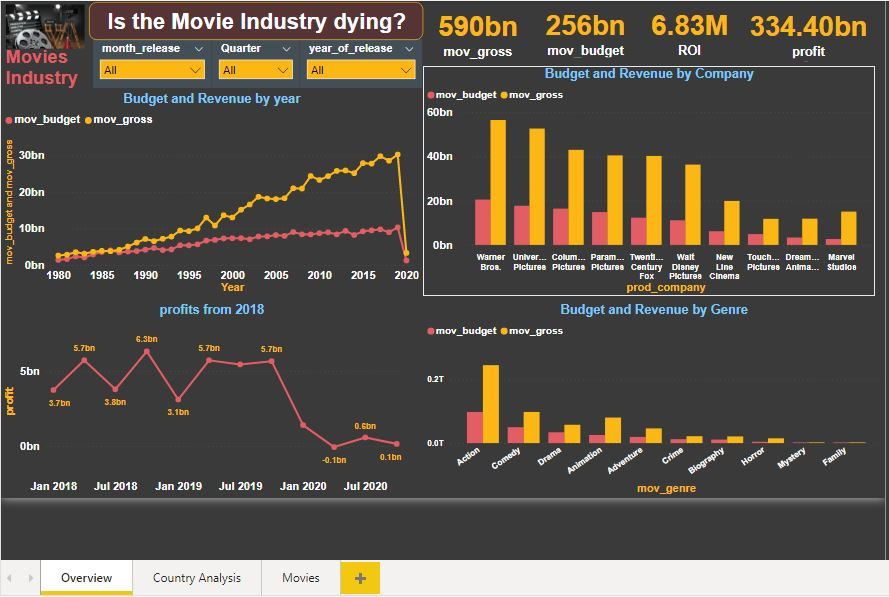

The page's visual inventory and layout, read from the dashboard file:
{"tool":"powerbi","page":{"name":"Overview","canvas":[1280,720],"ordinal":0},"visuals":[{"type":"image","box":[0,0,127.4,73.8],"z":0},{"type":"textbox","box":[1.7,60.9,123.5,74.8],"z":1000},{"type":"card","fields":{"Values":["Sum(cleaned_movies_industry.mov_budget)"]},"box":[770.3,1.4,152,85.4],"z":2000},{"type":"card","fields":{"Values":["Sum(cleaned_movies_industry.mov_gross)"]},"box":[611,0,159.3,91.2],"z":3000},{"type":"textbox","box":[127.4,1.4,483.6,55],"z":4000},{"type":"lineChart","title":"Budget and Revenue by year","fields":{"Category":["cleaned_movies_industry.date.Variation.Date Hierarchy.Year","cleaned_movies_industry.date.Variation.Date Hierarchy.Quarter","cleaned_movies_industry.date.Variation.Date Hierarchy.Month","cleaned_movies_industry.date.Variation.Date Hierarchy.Day"],"Y":["Sum(cleaned_movies_industry.mov_budget)","Sum(cleaned_movies_industry.mov_gross)"]},"box":[0,130.4,610.4,297.4],"z":5000},{"type":"clusteredColumnChart","title":"Budget and Revenue by Company","fields":{"Category":["cleaned_movies_industry.prod_company"],"Y":["Sum(cleaned_movies_industry.mov_budget)","Sum(cleaned_movies_industry.mov_gross)"]},"box":[610.4,93.9,655.7,333.9],"z":6000},{"type":"card","fields":{"Values":["Sum(cleaned_movies_industry.ROI)"]},"box":[922.4,0,149.1,88.3],"z":7000},{"type":"card","fields":{"Values":["Sum(cleaned_movies_industry.profit)"]},"box":[1071.5,2.9,195.5,85.4],"z":8000},{"type":"lineChart","title":"profits  from 2018","fields":{"Category":["cleaned_movies_industry.date.Variation.Date Hierarchy.Year","cleaned_movies_industry.date.Variation.Date Hierarchy.Quarter","cleaned_movies_industry.date.Variation.Date Hierarchy.Month","cleaned_movies_industry.date.Variation.Date Hierarchy.Day"],"Y":["Sum(cleaned_movies_industry.profit)"]},"box":[0,436.5,610.4,283.5],"z":9000},{"type":"slicer","fields":{"Values":["cleaned_movies_industry.year_of_release"]},"box":[433,55.7,177.4,71.3],"z":10000},{"type":"slicer","fields":{"Values":["cleaned_movies_industry.month_release"]},"box":[133.9,55.7,172.2,71.3],"z":11000},{"type":"slicer","fields":{"Values":["cleaned_movies_industry.date.Variation.Date Hierarchy.Quarter"]},"box":[306.1,55.7,127,71.3],"z":12000},{"type":"clusteredColumnChart","title":"Budget and Revenue by Genre","fields":{"Category":["cleaned_movies_industry.mov_genre"],"Y":["Sum(cleaned_movies_industry.mov_budget)","Sum(cleaned_movies_industry.mov_gross)"]},"box":[610.4,436.5,669.6,283.5],"z":13000}]}

Visuals, with their boxes on the page's 1280x720 design canvas (x1, y1, x2, y2). These are canvas units, not pixel positions in the 889x597 screenshot, which may show the page scaled, cropped or inside an application window:
image: {"left": 0, "top": 0, "right": 127, "bottom": 74}
textbox: {"left": 2, "top": 61, "right": 125, "bottom": 136}
card - Sum(cleaned_movies_industry.mov_budget): {"left": 770, "top": 1, "right": 922, "bottom": 87}
card - Sum(cleaned_movies_industry.mov_gross): {"left": 611, "top": 0, "right": 770, "bottom": 91}
textbox: {"left": 127, "top": 1, "right": 611, "bottom": 56}
"Budget and Revenue by year" lineChart: {"left": 0, "top": 130, "right": 610, "bottom": 428}
"Budget and Revenue by Company" clusteredColumnChart: {"left": 610, "top": 94, "right": 1266, "bottom": 428}
card - Sum(cleaned_movies_industry.ROI): {"left": 922, "top": 0, "right": 1072, "bottom": 88}
card - Sum(cleaned_movies_industry.profit): {"left": 1072, "top": 3, "right": 1267, "bottom": 88}
"profits  from 2018" lineChart: {"left": 0, "top": 436, "right": 610, "bottom": 720}
slicer - cleaned_movies_industry.year_of_release: {"left": 433, "top": 56, "right": 610, "bottom": 127}
slicer - cleaned_movies_industry.month_release: {"left": 134, "top": 56, "right": 306, "bottom": 127}
slicer - cleaned_movies_industry.date.Variation.Date Hierarchy.Quarter: {"left": 306, "top": 56, "right": 433, "bottom": 127}
"Budget and Revenue by Genre" clusteredColumnChart: {"left": 610, "top": 436, "right": 1280, "bottom": 720}
